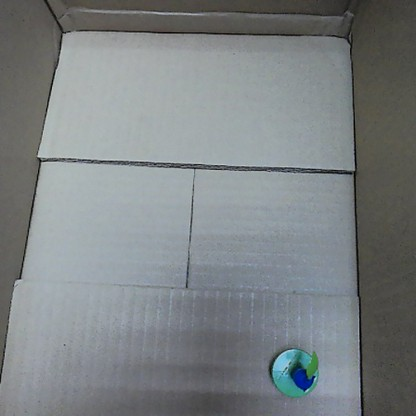leafairy: (266, 345, 320, 401)
